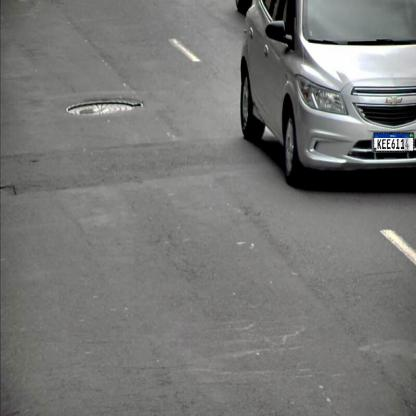PlacaM: (373, 132, 414, 152)
